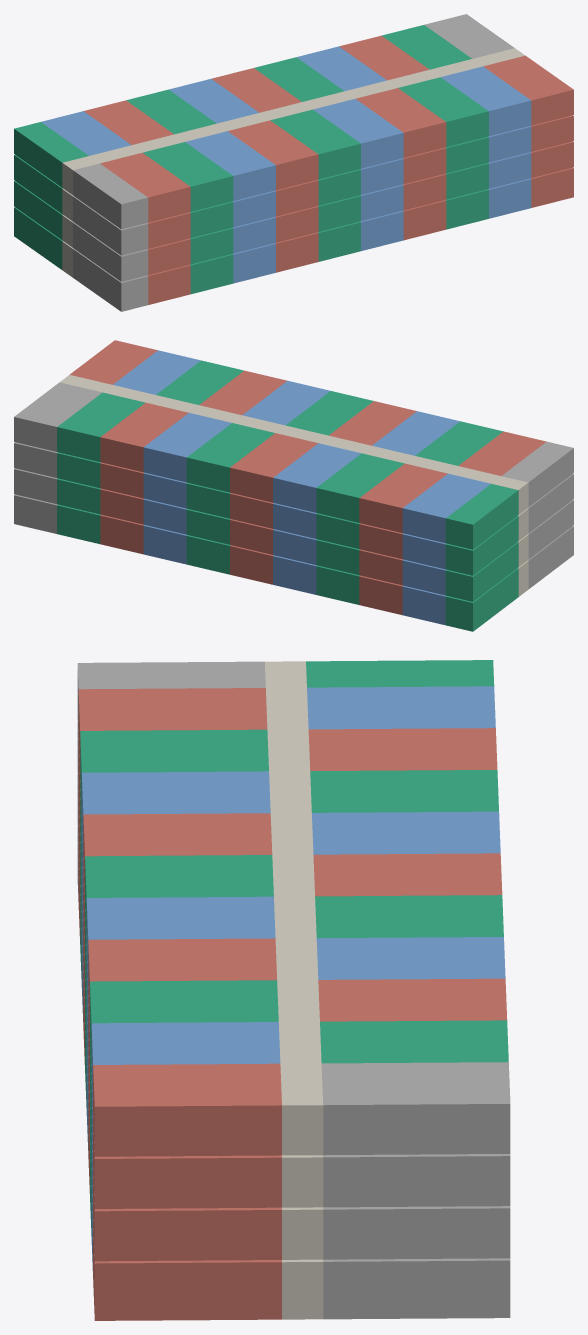
File: indoor_gedung_z_teknik_grafika_dan_percetakan.glb
3 renders of one model, top to bottom at view 1: azimuth 30°, elevation 25°; view 2: azimuth 150°, elevation 25°; view 3: azimuth 270°, elevation 25°, orthographic. The views are drawn at different scales.
Parts seen in each view (by area): view 1: F4_4K, F4_422, F4_408, F4_418, F4_416, F4_406, F4_412, F4_414, F4_402, F4_420, F4_404, F4_410 (+47 smaller); view 2: F4_4K, F4_421, F4_407, F4_413, F4_405, F4_415, F4_417, F4_419, F4_403, F4_409, F4_401, F4_411 (+47 smaller); view 3: F4_4K, F4_402, F4_401, F1_102, F1_101, F3_302, F2_202, F2_201, F3_301, F4_416, F4_410, F4_420 (+20 smaller).
Part boxes in pixels (x1,y1,x2,y2): F4_4K: [62, 48, 524, 194]; F4_422: [73, 163, 148, 229]; F4_408: [355, 88, 446, 157]; F4_418: [143, 142, 233, 211]; F4_416: [185, 131, 275, 200]; F4_406: [398, 77, 488, 146]; F4_412: [270, 109, 360, 179]; F4_414: [228, 120, 318, 190]; F4_402: [483, 55, 573, 125]; F4_420: [100, 152, 190, 222]; F4_404: [441, 66, 531, 136]; F4_410: [313, 99, 403, 168]; F4_4K: [60, 375, 528, 514]; F4_421: [445, 484, 518, 549]; F4_407: [143, 413, 231, 482]; F4_413: [273, 443, 361, 512]; F4_405: [100, 402, 188, 472]; F4_415: [316, 453, 404, 522]; F4_417: [359, 463, 447, 532]; F4_419: [402, 473, 490, 543]; F4_403: [57, 392, 145, 461]; F4_409: [186, 423, 274, 492]; F4_401: [14, 382, 102, 451]; F4_411: [230, 433, 318, 502]; F4_4K: [264, 661, 323, 1155]; F4_402: [93, 1063, 281, 1156]; F4_401: [321, 1062, 510, 1155]; F1_102: [93, 1222, 281, 1320]; F1_101: [323, 1258, 510, 1319]; F3_302: [93, 1117, 281, 1208]; F2_202: [93, 1170, 281, 1261]; F2_201: [323, 1206, 510, 1259]; F3_301: [323, 1154, 510, 1207]; F4_416: [81, 771, 270, 857]; F4_410: [86, 896, 275, 986]; F4_420: [78, 688, 267, 780].
Size of the model in its own units: 64.19 by 14.35 by 26.29.
